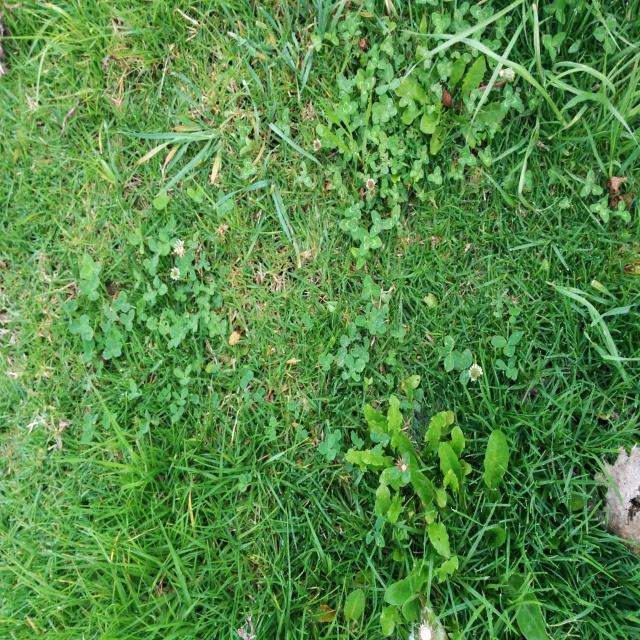Four Leaf Clover: (437, 335, 463, 372), (342, 354, 365, 382)
